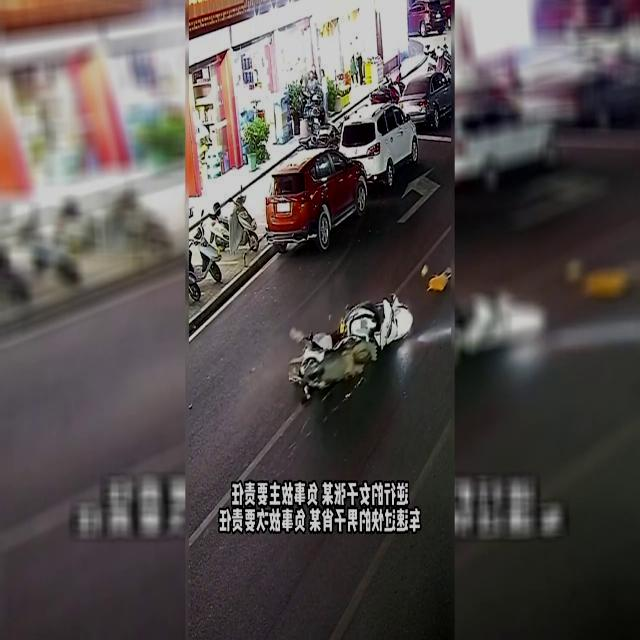accident: (287, 297, 411, 399)
non-accident: (262, 105, 418, 253)
